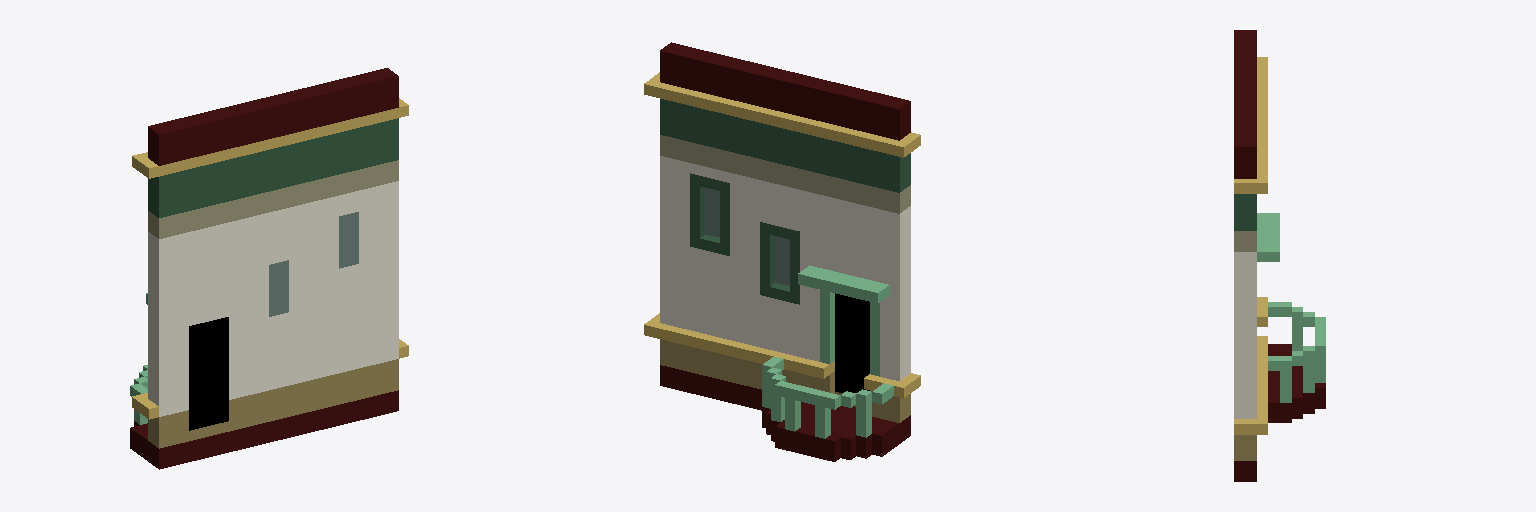
3 renders of one model, left to right at view 1: azimuth 30°, elevation 25°; view 2: azimuth 150°, elevation 25°; view 3: azimuth 270°, elevation 25°, orthographic.
Visible parts, largest first — view 1: object 1; view 2: object 1; view 3: object 1.
Part boxes in pixels (bbox=[...]): object 1: bbox=[130, 68, 408, 469]; object 1: bbox=[644, 42, 920, 461]; object 1: bbox=[1234, 30, 1325, 481].
Size of the model in its own units: 2.6 by 3.2 by 0.8.
Materials: 1 (1 with a texture image).